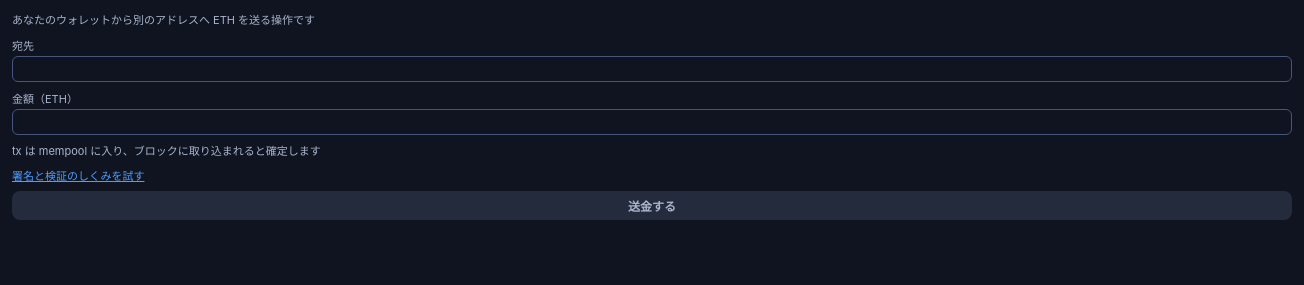
Test: TransferForm error coexistence and priority (Issue #236) › shows the destination and amount errors simultaneously when both are invalid
In the field with test id "operation-transfer-to": (652, 68) [12, 56, 1292, 82], type "0x123"
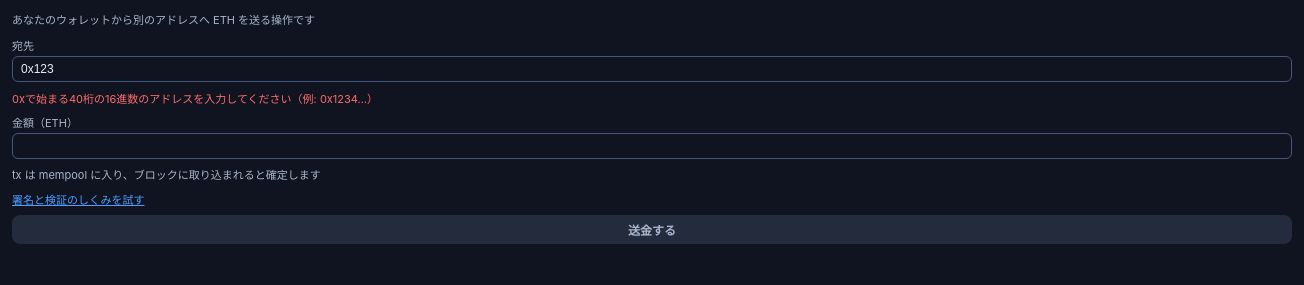
In the field with test id "operation-transfer-amount": (652, 146) [12, 132, 1292, 158], type "not-a-number"
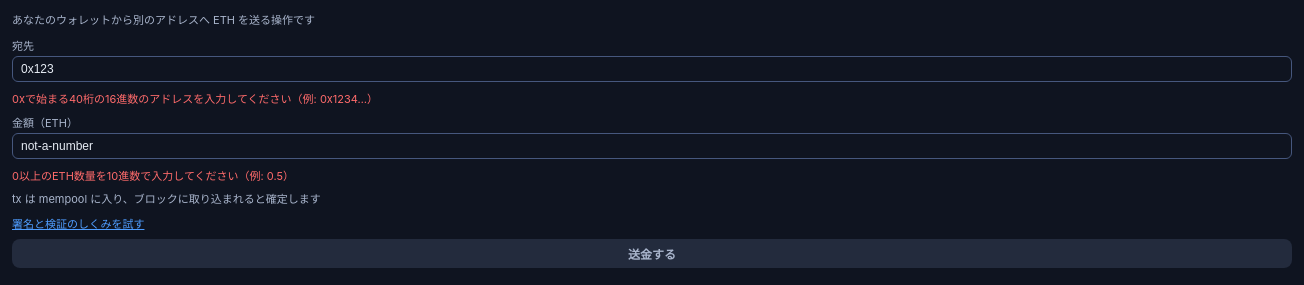
Expected: the button "送金する" is disabled, [12, 239, 1292, 268]
Expected: the text "0xで始まる40桁の16進数のアドレスを入力してください（例: 0x1234…）" is shown, [12, 92, 378, 106]
Expected: the text "0以上のETH数量を10進数で入力してください（例: 0.5）" is shown, [12, 168, 294, 182]
